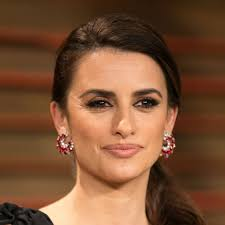middle_eastern_Female: (44, 17, 181, 177)
